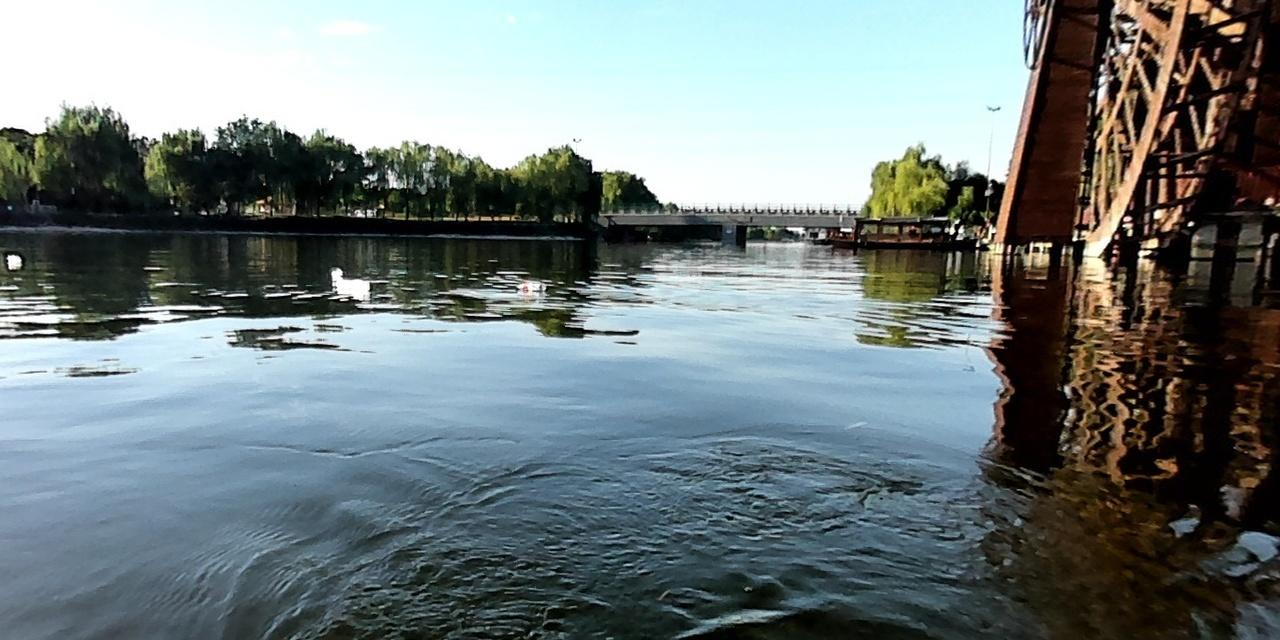bottle: (334, 276, 372, 292), (512, 279, 546, 293)
